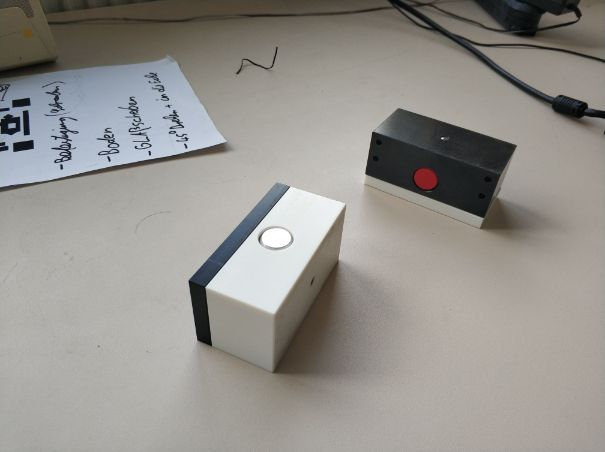black+white+silver: (185, 180, 350, 379)
white+black+red: (362, 106, 520, 231)
